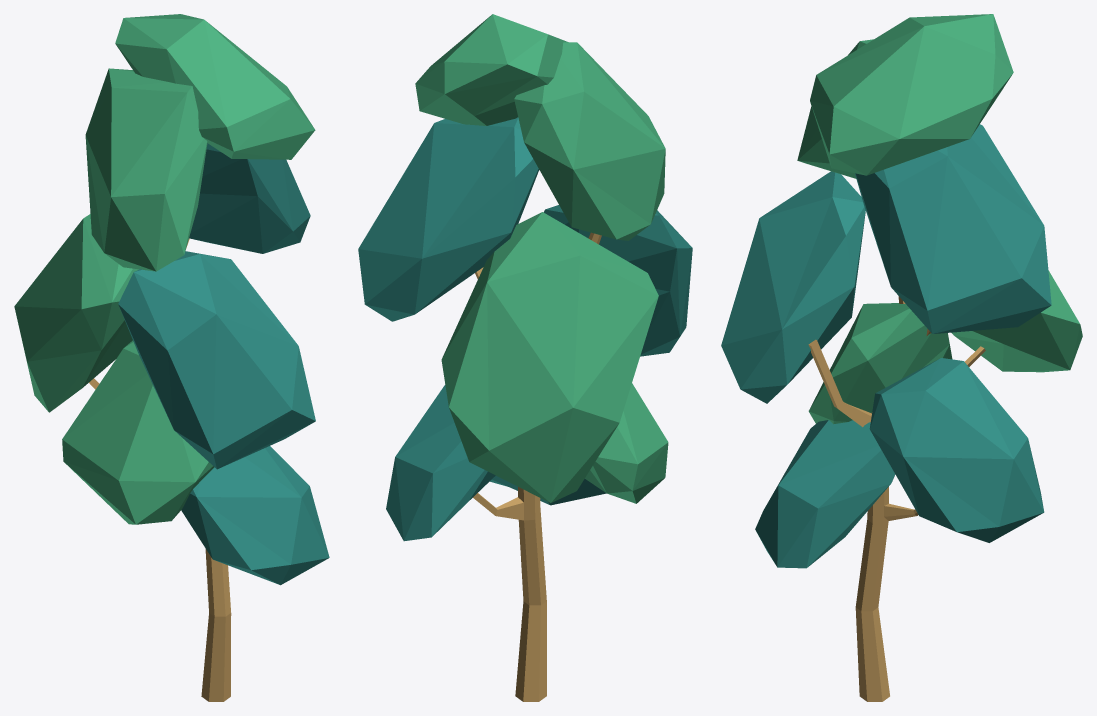
The model's file is Tree_Type3_3.fbx.
3 views of the same model, side by side, from view 1: azimuth 30°, elevation 25°; view 2: azimuth 150°, elevation 25°; view 3: azimuth 270°, elevation 25° (orthographic). The views are drawn at different scales.
Visible parts, largest first — view 1: Tree_Type3_3; view 2: Tree_Type3_3; view 3: Tree_Type3_3.
Part boxes in pixels (box(x1,y1,x2,y2)): Tree_Type3_3: box(14, 14, 329, 701); Tree_Type3_3: box(358, 14, 692, 701); Tree_Type3_3: box(721, 14, 1082, 701).
Bounding box in the file's own units: 193 × 472 × 229.
